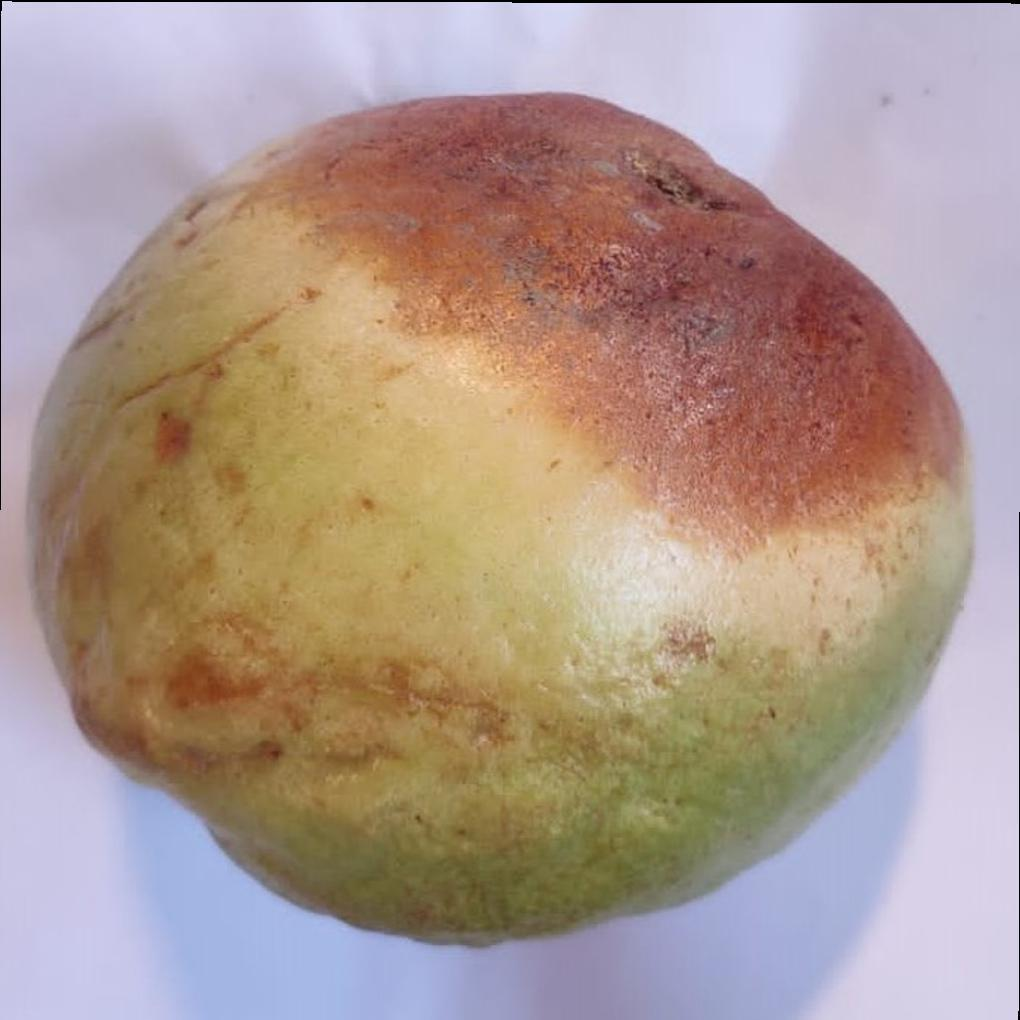FreshOrange: (24, 93, 977, 952)
